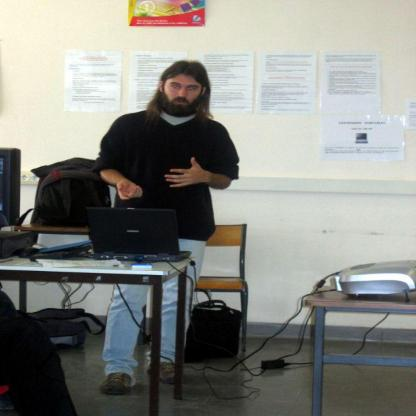board: (84, 198, 198, 262)
